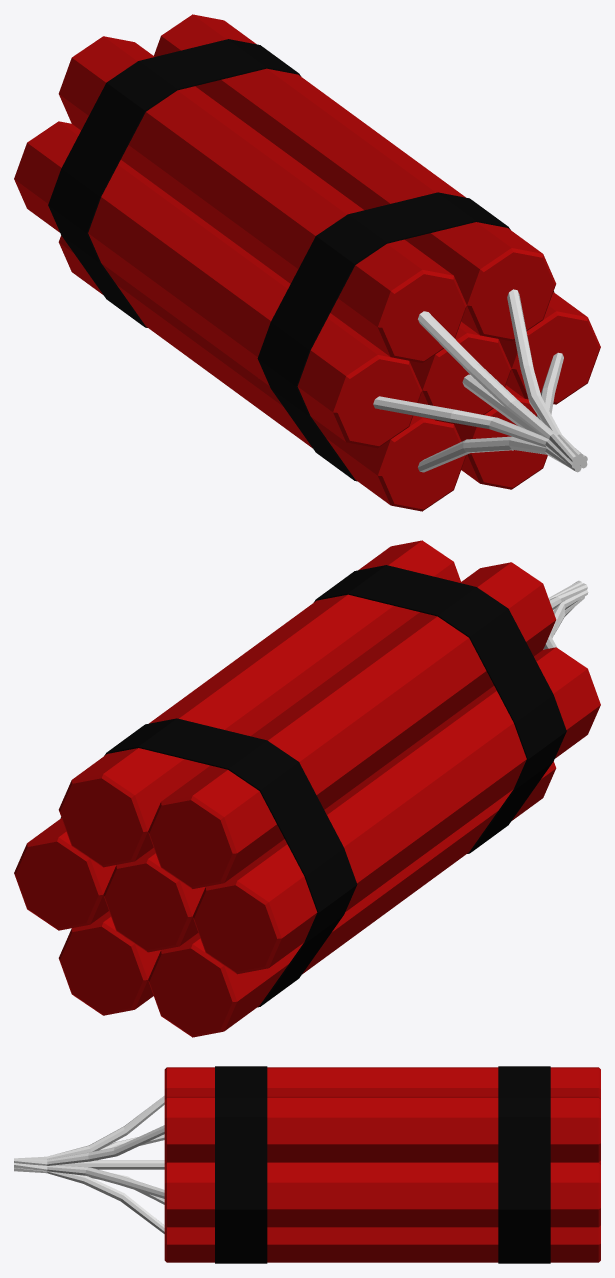
File: Dynamite.glb
3 renders of one model, top to bottom at view 1: azimuth 30°, elevation 25°; view 2: azimuth 150°, elevation 25°; view 3: azimuth 270°, elevation 25°, orthographic. The views are drawn at different scales.
Visible parts, largest first — view 1: Dynamite; view 2: Dynamite; view 3: Dynamite.
Boxes of the visible parts, x1,y1,x2,y2 form: Dynamite: [14, 14, 600, 511]; Dynamite: [14, 540, 600, 1037]; Dynamite: [14, 1066, 600, 1263].
Size of the model in its own units: 0.9696 by 0.8363 by 2.69.
1 material, 1 textured.
